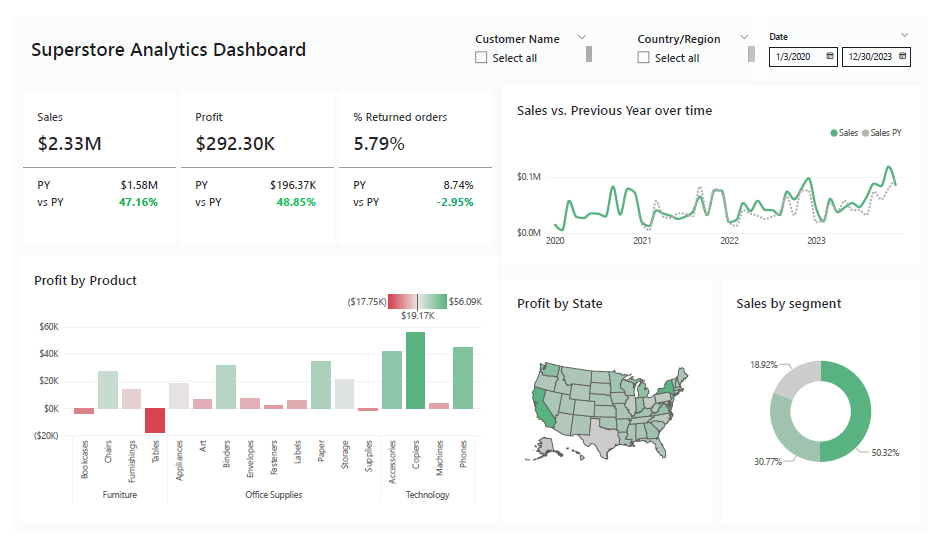

The page's visual inventory and layout, read from the dashboard file:
{"tool":"powerbi","page":{"name":"Page 1","canvas":[1280,720],"ordinal":0},"visuals":[{"type":"cardVisual","fields":{"Data":["Measures Table.Sales","Measures Table.Profit","Measures Table.% Returned orders"]},"box":[9.3,99.9,666.7,223],"z":0},{"type":"shape","box":[0,0,1280,89.7],"z":1000},{"type":"lineChart","title":"Sales vs. Previous Year over time","fields":{"Y":["Measures Table.Sales","Measures Table.Sales PY"],"Category":["Date Table.Start of Month"]},"box":[684.8,99.4,583,248.5],"z":2000},{"type":"columnChart","title":"Profit by Product","fields":{"Y":["Measures Table.Profit"],"Category":["Orders.Category","Orders.Sub-Category"]},"box":[9.3,335.7,666.7,371.7],"z":3000},{"type":"shapeMap","title":"Profit by State","fields":{"Value":["Measures Table.Profit"],"Category":["Orders.State/Province"]},"box":[684.8,368.5,292.1,339.4],"z":4000},{"type":"donutChart","title":"Sales by segment","fields":{"Y":["Measures Table.Sales"],"Category":["Orders.Segment"]},"box":[991.5,368.5,276.4,339.4],"z":5000},{"type":"slicer","fields":{"Values":["Orders.Country/Region"]},"box":[845.6,0,211.4,89.4],"z":6000},{"type":"slicer","fields":{"Values":["Date Table.Date"]},"box":[1030.3,0,249.7,90.6],"z":8000},{"type":"slicer","fields":{"Values":["Orders.Customer Name"]},"box":[619.1,0,211.4,89.4],"z":9000}]}

Visuals, with their boxes in screenshot pixels (x1, y1, x2, y2), scaled from the page's 1280x720 canvas onto the 941x545 screenshot:
cardVisual - Measures Table.Sales x Measures Table.Profit: pyautogui.locateOnScreen(7, 76, 497, 244)
shape: pyautogui.locateOnScreen(0, 0, 940, 68)
"Sales vs. Previous Year over time" lineChart: pyautogui.locateOnScreen(503, 75, 932, 263)
"Profit by Product" columnChart: pyautogui.locateOnScreen(7, 254, 497, 535)
"Profit by State" shapeMap: pyautogui.locateOnScreen(503, 279, 718, 536)
"Sales by segment" donutChart: pyautogui.locateOnScreen(729, 279, 932, 536)
slicer - Orders.Country/Region: pyautogui.locateOnScreen(622, 0, 777, 68)
slicer - Date Table.Date: pyautogui.locateOnScreen(757, 0, 940, 69)
slicer - Orders.Customer Name: pyautogui.locateOnScreen(455, 0, 611, 68)
